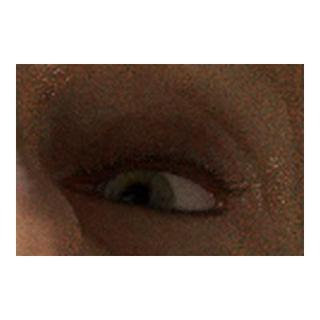pupil: (120, 186, 155, 220)
